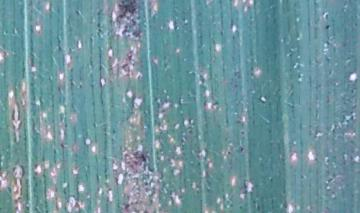tarspot: (116, 1, 140, 20), (228, 16, 235, 32), (138, 151, 147, 163), (58, 141, 67, 149), (130, 17, 136, 27), (239, 145, 245, 154), (230, 33, 236, 41), (324, 23, 330, 30), (124, 14, 130, 21), (239, 129, 245, 136), (226, 150, 232, 156)
